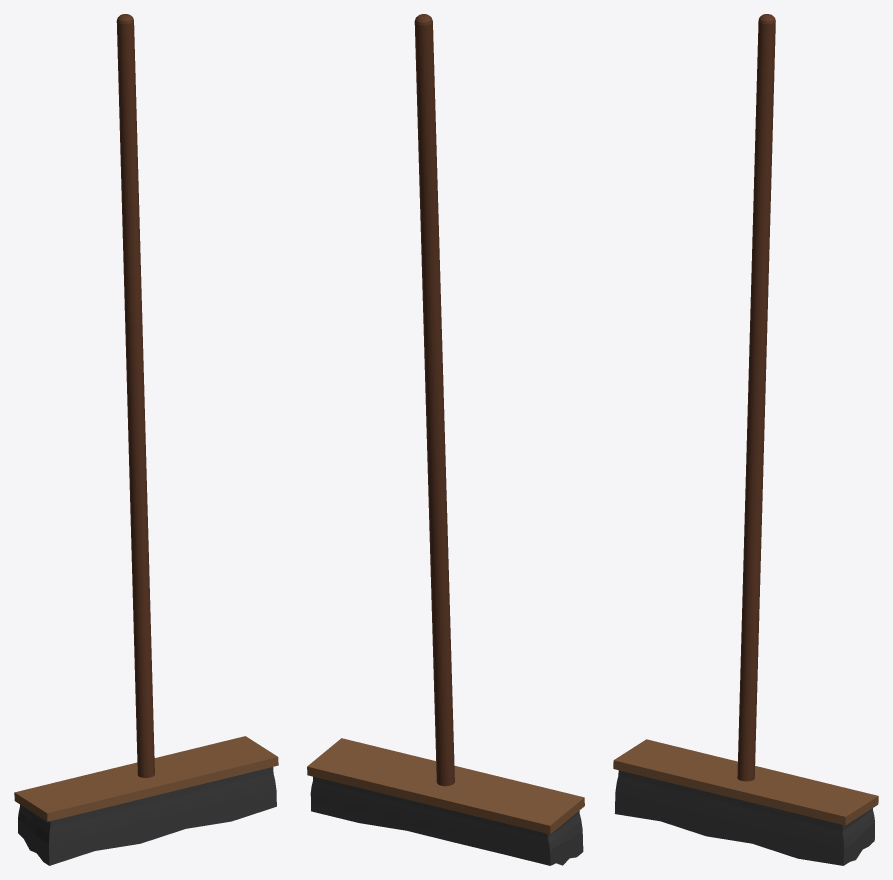
File: Push Broom.fbx
3 renders of one model, left to right at view 1: azimuth 30°, elevation 25°; view 2: azimuth 150°, elevation 25°; view 3: azimuth 330°, elevation 25°, orthographic. The views are drawn at different scales.
Visible parts, largest first — view 1: Push Broom; view 2: Push Broom; view 3: Push Broom.
Part boxes in pixels (x1,y1,x2,y2): Push Broom: (14, 14, 278, 865); Push Broom: (307, 14, 584, 865); Push Broom: (613, 14, 878, 865).
Bounding box in the file's own units: 53.8 × 177 × 17.01.
Materials: 1 (1 with a texture image).
